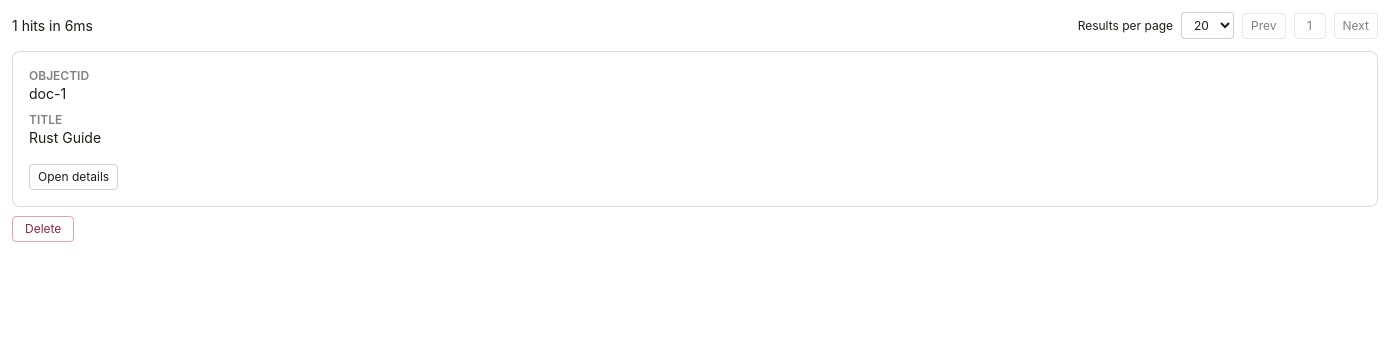
SearchPreviewResults › opens visible result details instead of an analytics-only click target
This screenshot has width=1390, height=347.
Click the button "Open details": point(74, 177) [29, 164, 118, 190]
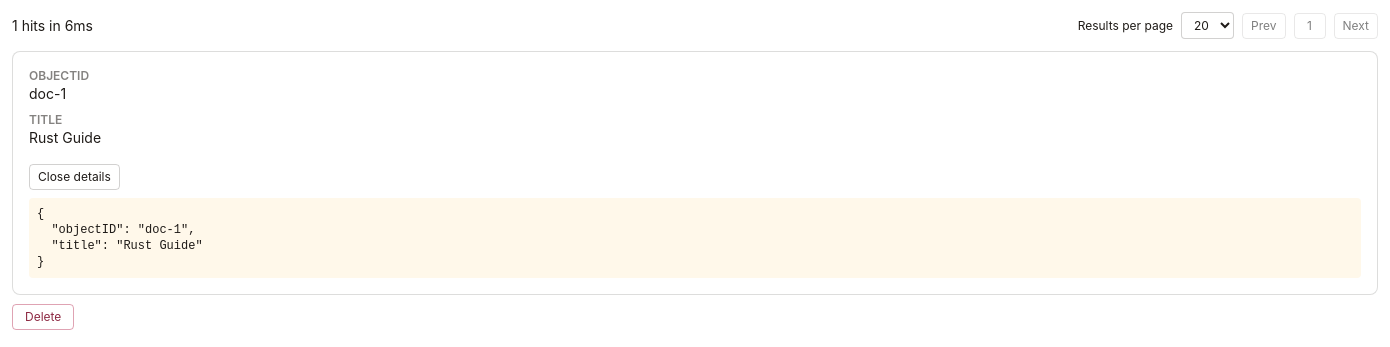
Now the text with test id "document-card-json" shows "Rust Guide", box [37, 207, 203, 269]
